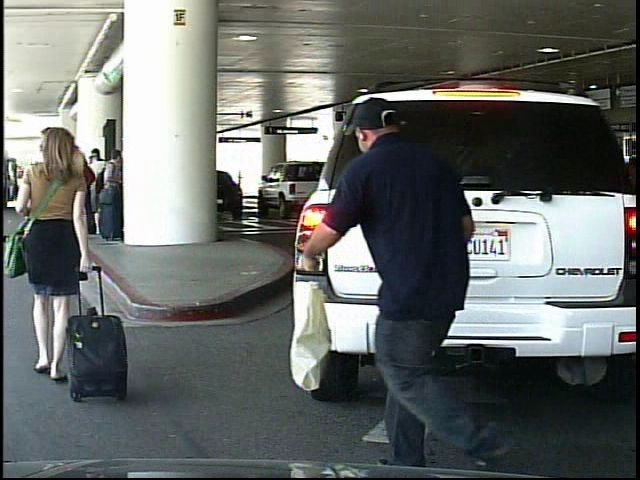person: (328, 74, 503, 469), (4, 123, 106, 410)
